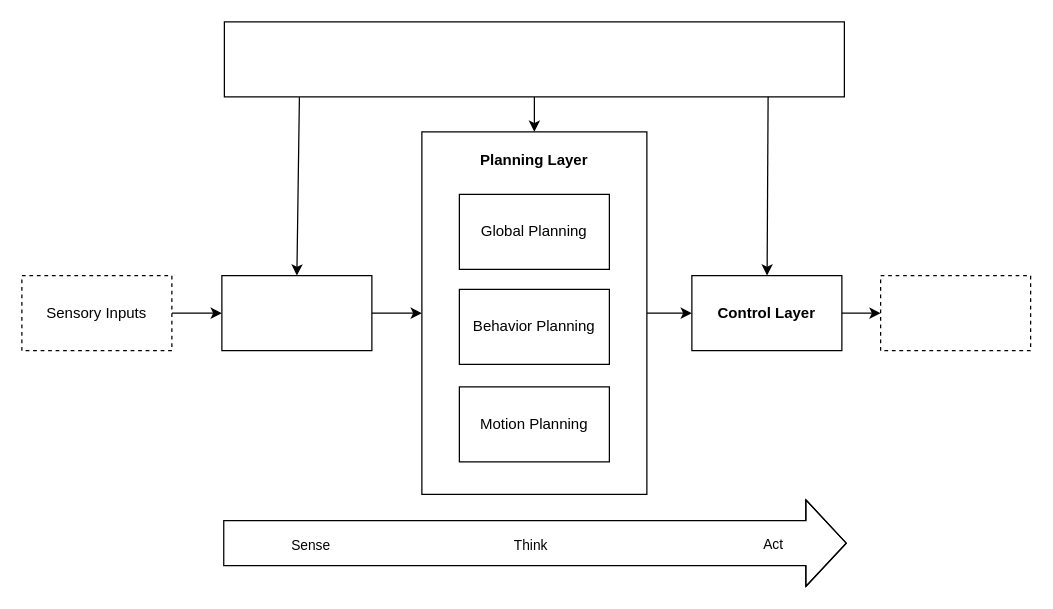
This 1053x609 diagram has some shape labels left out. The shapes that lost their labels are listed below. From the top down, each one's centre as x and y in pixels, then its label:
(533,59): System Supervision
(296,312): Perception Layer
(955,312): Actuators
